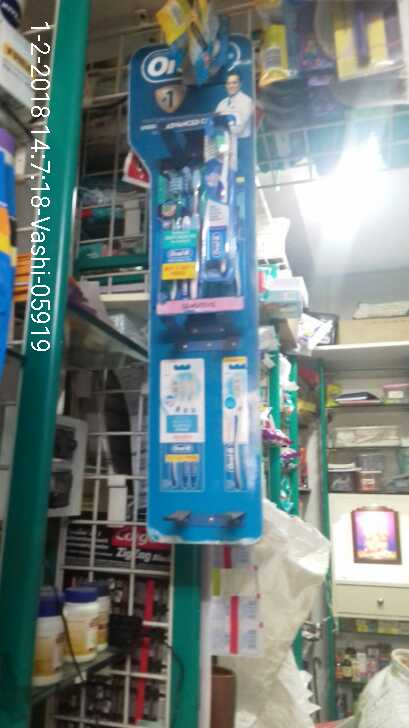oralb: (152, 154, 207, 302), (207, 118, 235, 277)
